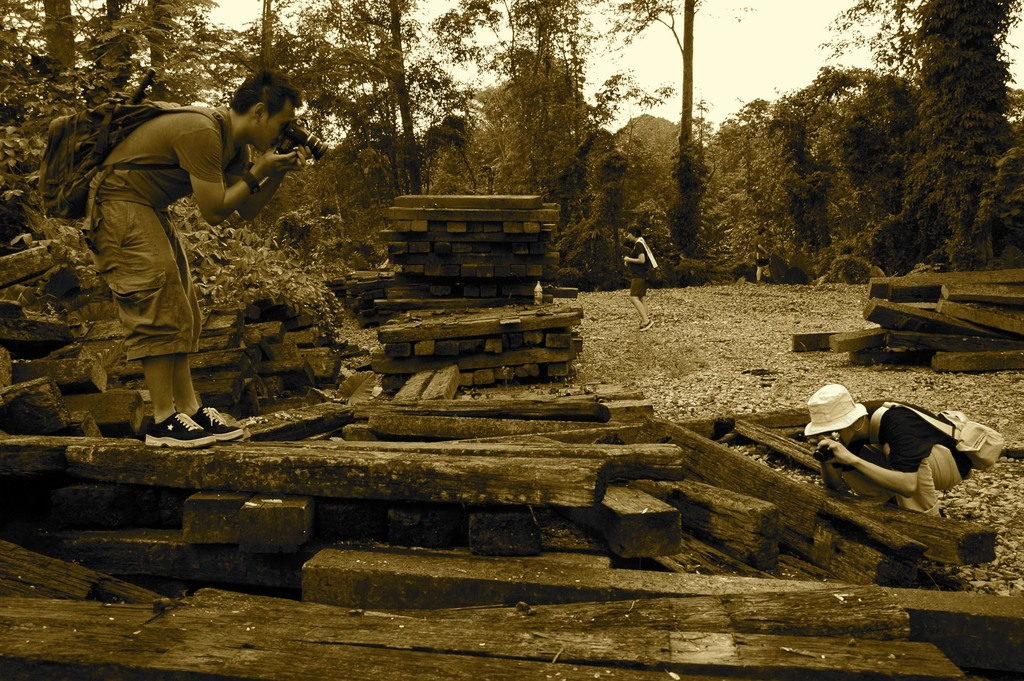Tree: (694, 64, 922, 249), (577, 0, 709, 184), (255, 0, 389, 156), (915, 0, 1009, 148), (135, 24, 274, 100), (807, 0, 913, 94), (0, 0, 74, 110), (375, 0, 411, 196), (140, 0, 206, 100), (90, 0, 126, 82), (37, 0, 69, 65), (261, 0, 273, 100)
